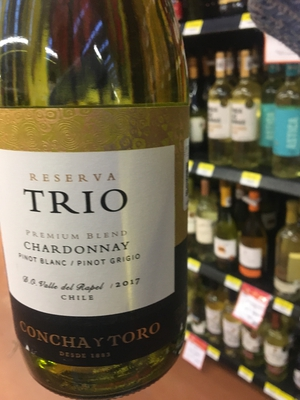trio chardonnay: (4, 42, 200, 396)
